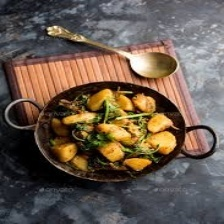sabzi: (41, 84, 177, 179)
